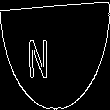N_N: (44, 29, 66, 81)
